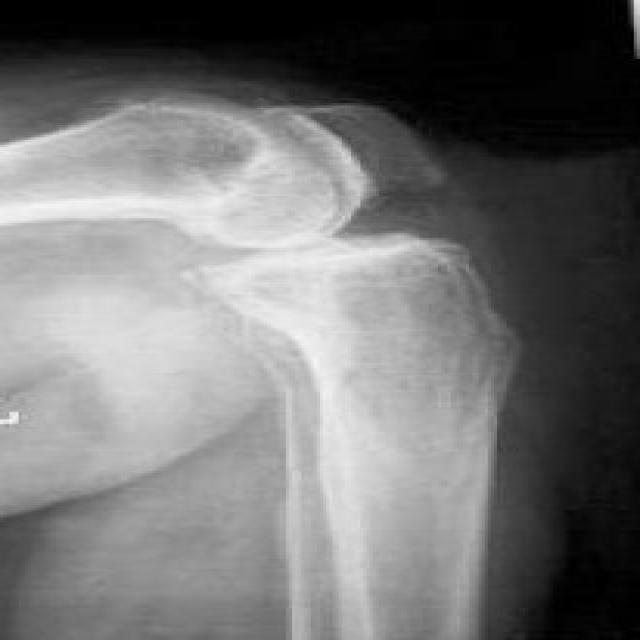Hairline: (348, 226, 545, 362)
